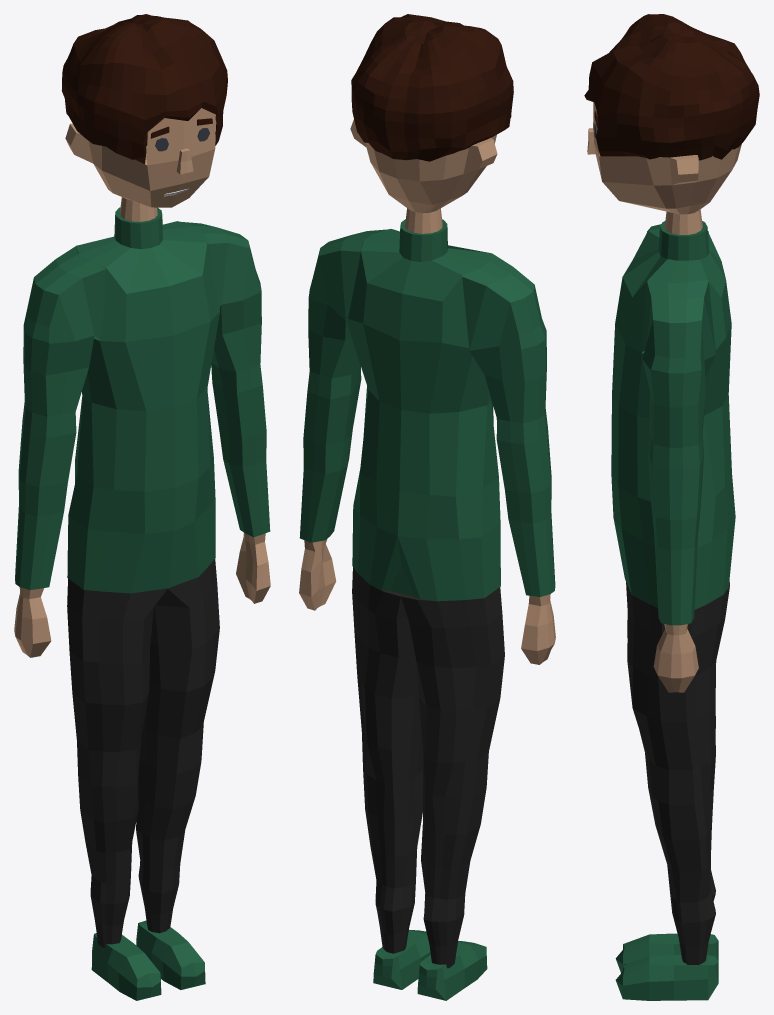
The model's file is Paul.fbx.
3 views of the same model, side by side, from view 1: azimuth 30°, elevation 25°; view 2: azimuth 150°, elevation 25°; view 3: azimuth 270°, elevation 25° (orthographic).
Parts seen in each view (by area): view 1: Cylinder.014; view 2: Cylinder.014; view 3: Cylinder.014.
Boxes of the visible parts, box(x1,y1,x2,y2) form: Cylinder.014: box(14, 14, 270, 1000); Cylinder.014: box(299, 14, 555, 1000); Cylinder.014: box(584, 14, 759, 1000).
Size of the model in its own units: 43.03 by 157 by 26.25.
